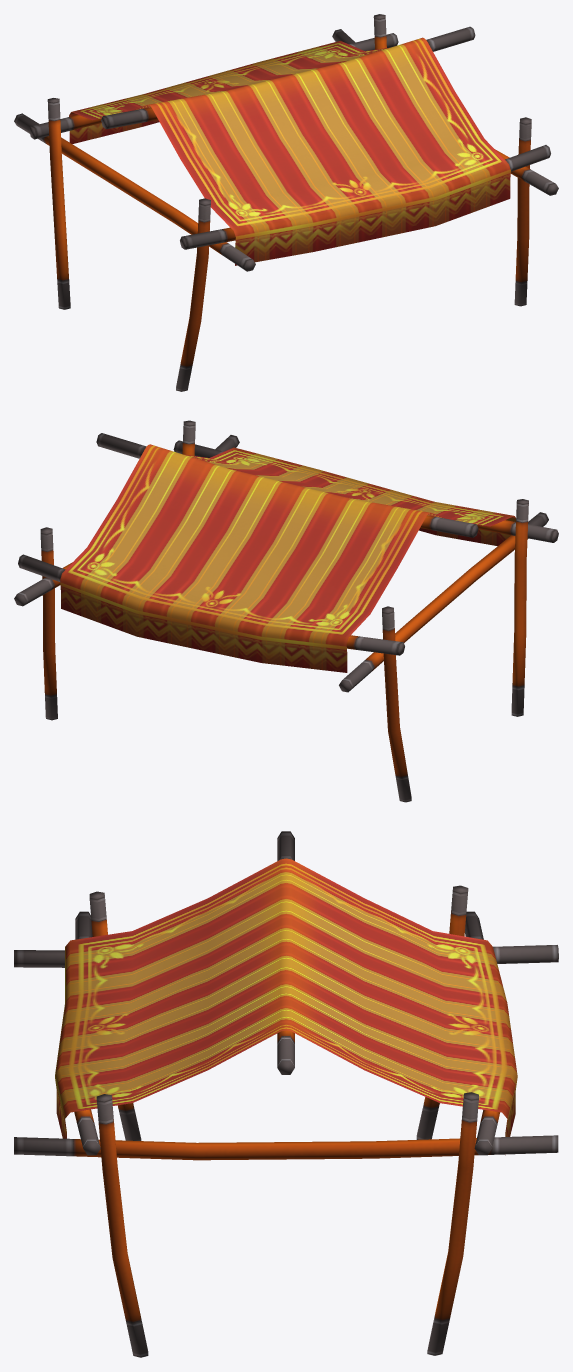
File: FruitStall.FBX
The picture shows the model from 3 angles, top to bottom: view 1: azimuth 30°, elevation 25°; view 2: azimuth 150°, elevation 25°; view 3: azimuth 270°, elevation 25°; orthographic projection. The views are drawn at different scales.
Visible parts, largest first — view 1: FruitStall; view 2: FruitStall; view 3: FruitStall.
Boxes of the visible parts, x1,y1,x2,y2 form: FruitStall: (14,14,558,391); FruitStall: (14,420,558,802); FruitStall: (14,831,558,1357).
Bounding box in the file's own units: 317 × 192 × 318.
